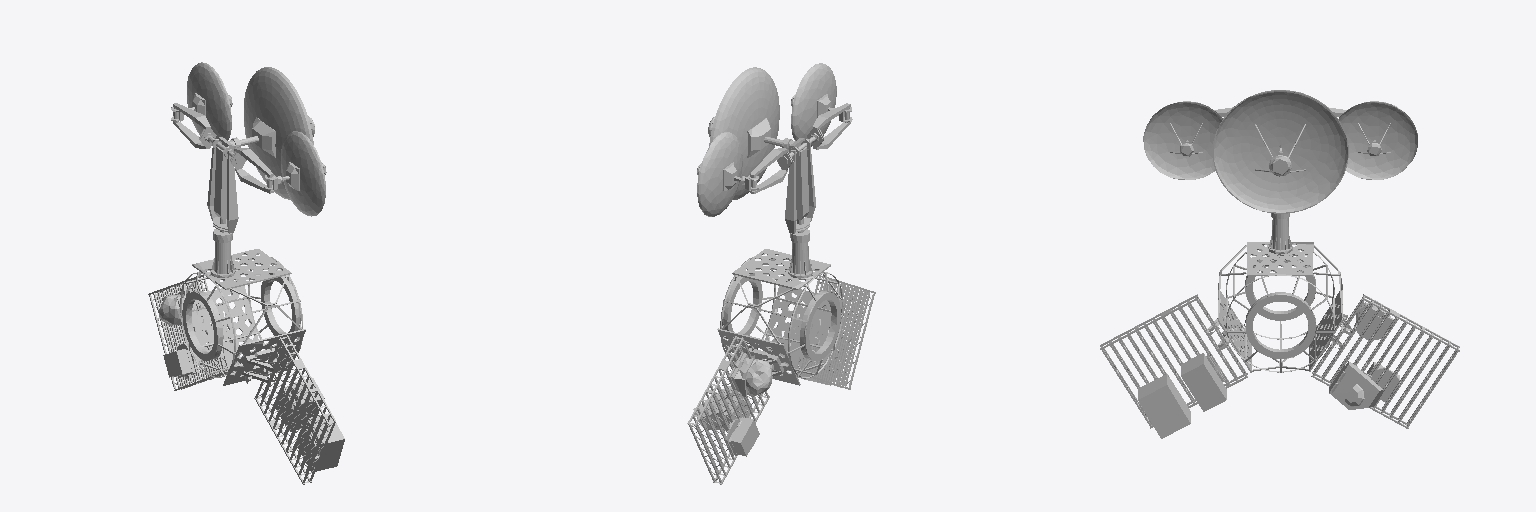
The model's file is dish.obj.
The picture shows the model from 3 angles: view 1: azimuth 30°, elevation 25°; view 2: azimuth 150°, elevation 25°; view 3: azimuth 270°, elevation 25°; orthographic projection.
Bounding box in the file's own units: 4.92 × 15.03 × 13.79.